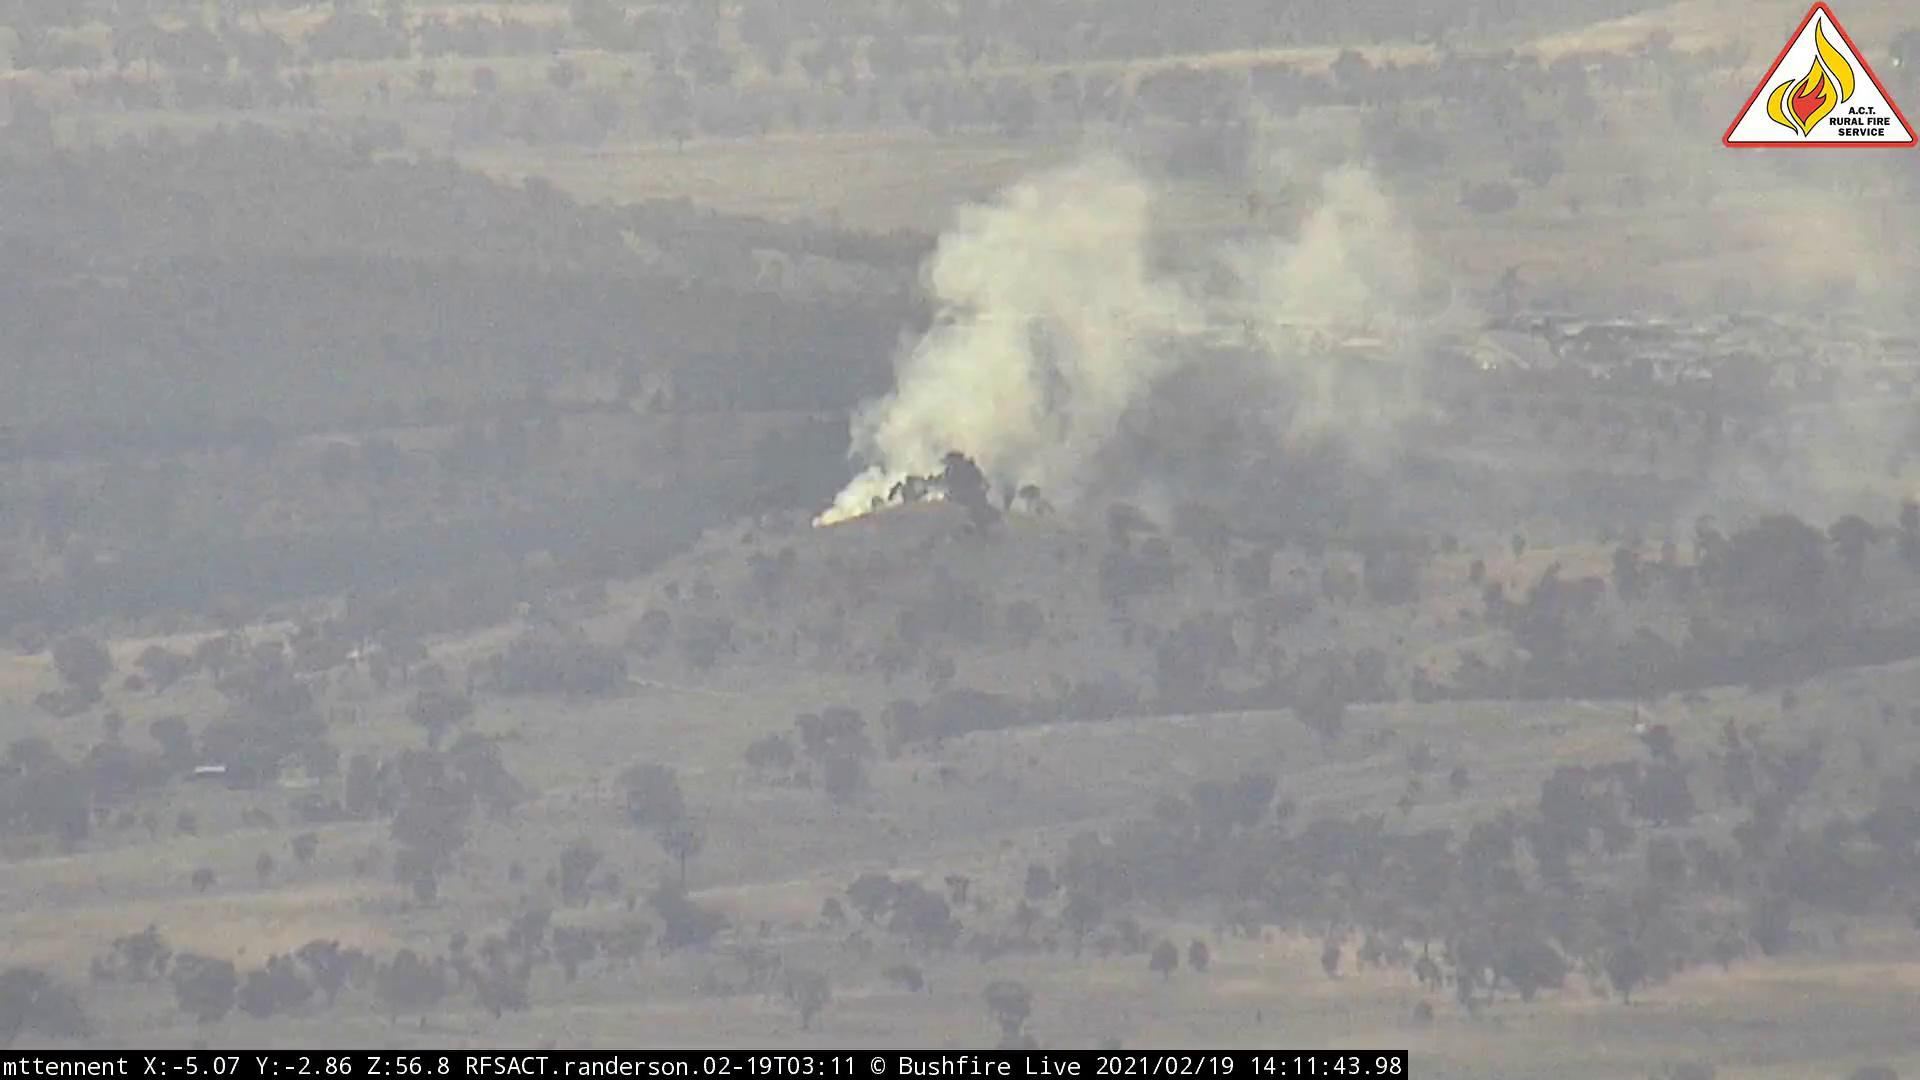Smoke: (808, 112, 1565, 546)
